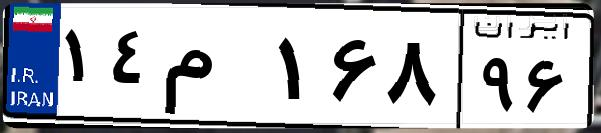1: (270, 28, 330, 110), (57, 26, 110, 100)
4: (110, 28, 158, 98)
6: (330, 28, 385, 110), (525, 38, 570, 115)
8: (385, 28, 445, 110)
9: (475, 38, 525, 113)
م: (158, 20, 270, 120)
